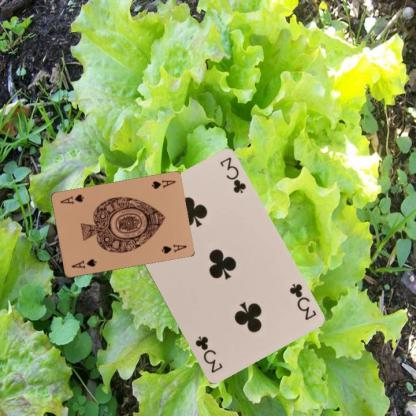3c: (286, 280, 317, 321)
As: (69, 256, 98, 270), (148, 177, 177, 191)
